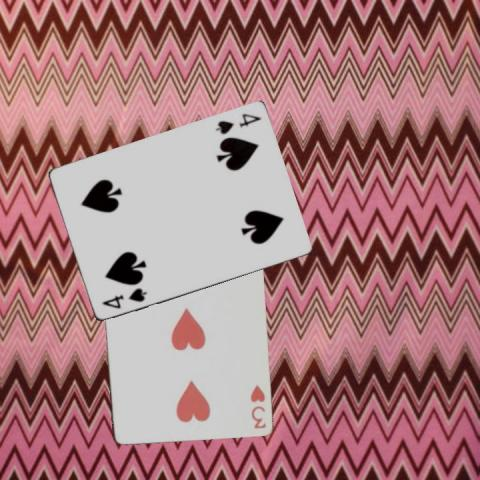3h: (247, 382, 267, 430)
4s: (99, 285, 148, 311), (212, 111, 262, 136)
